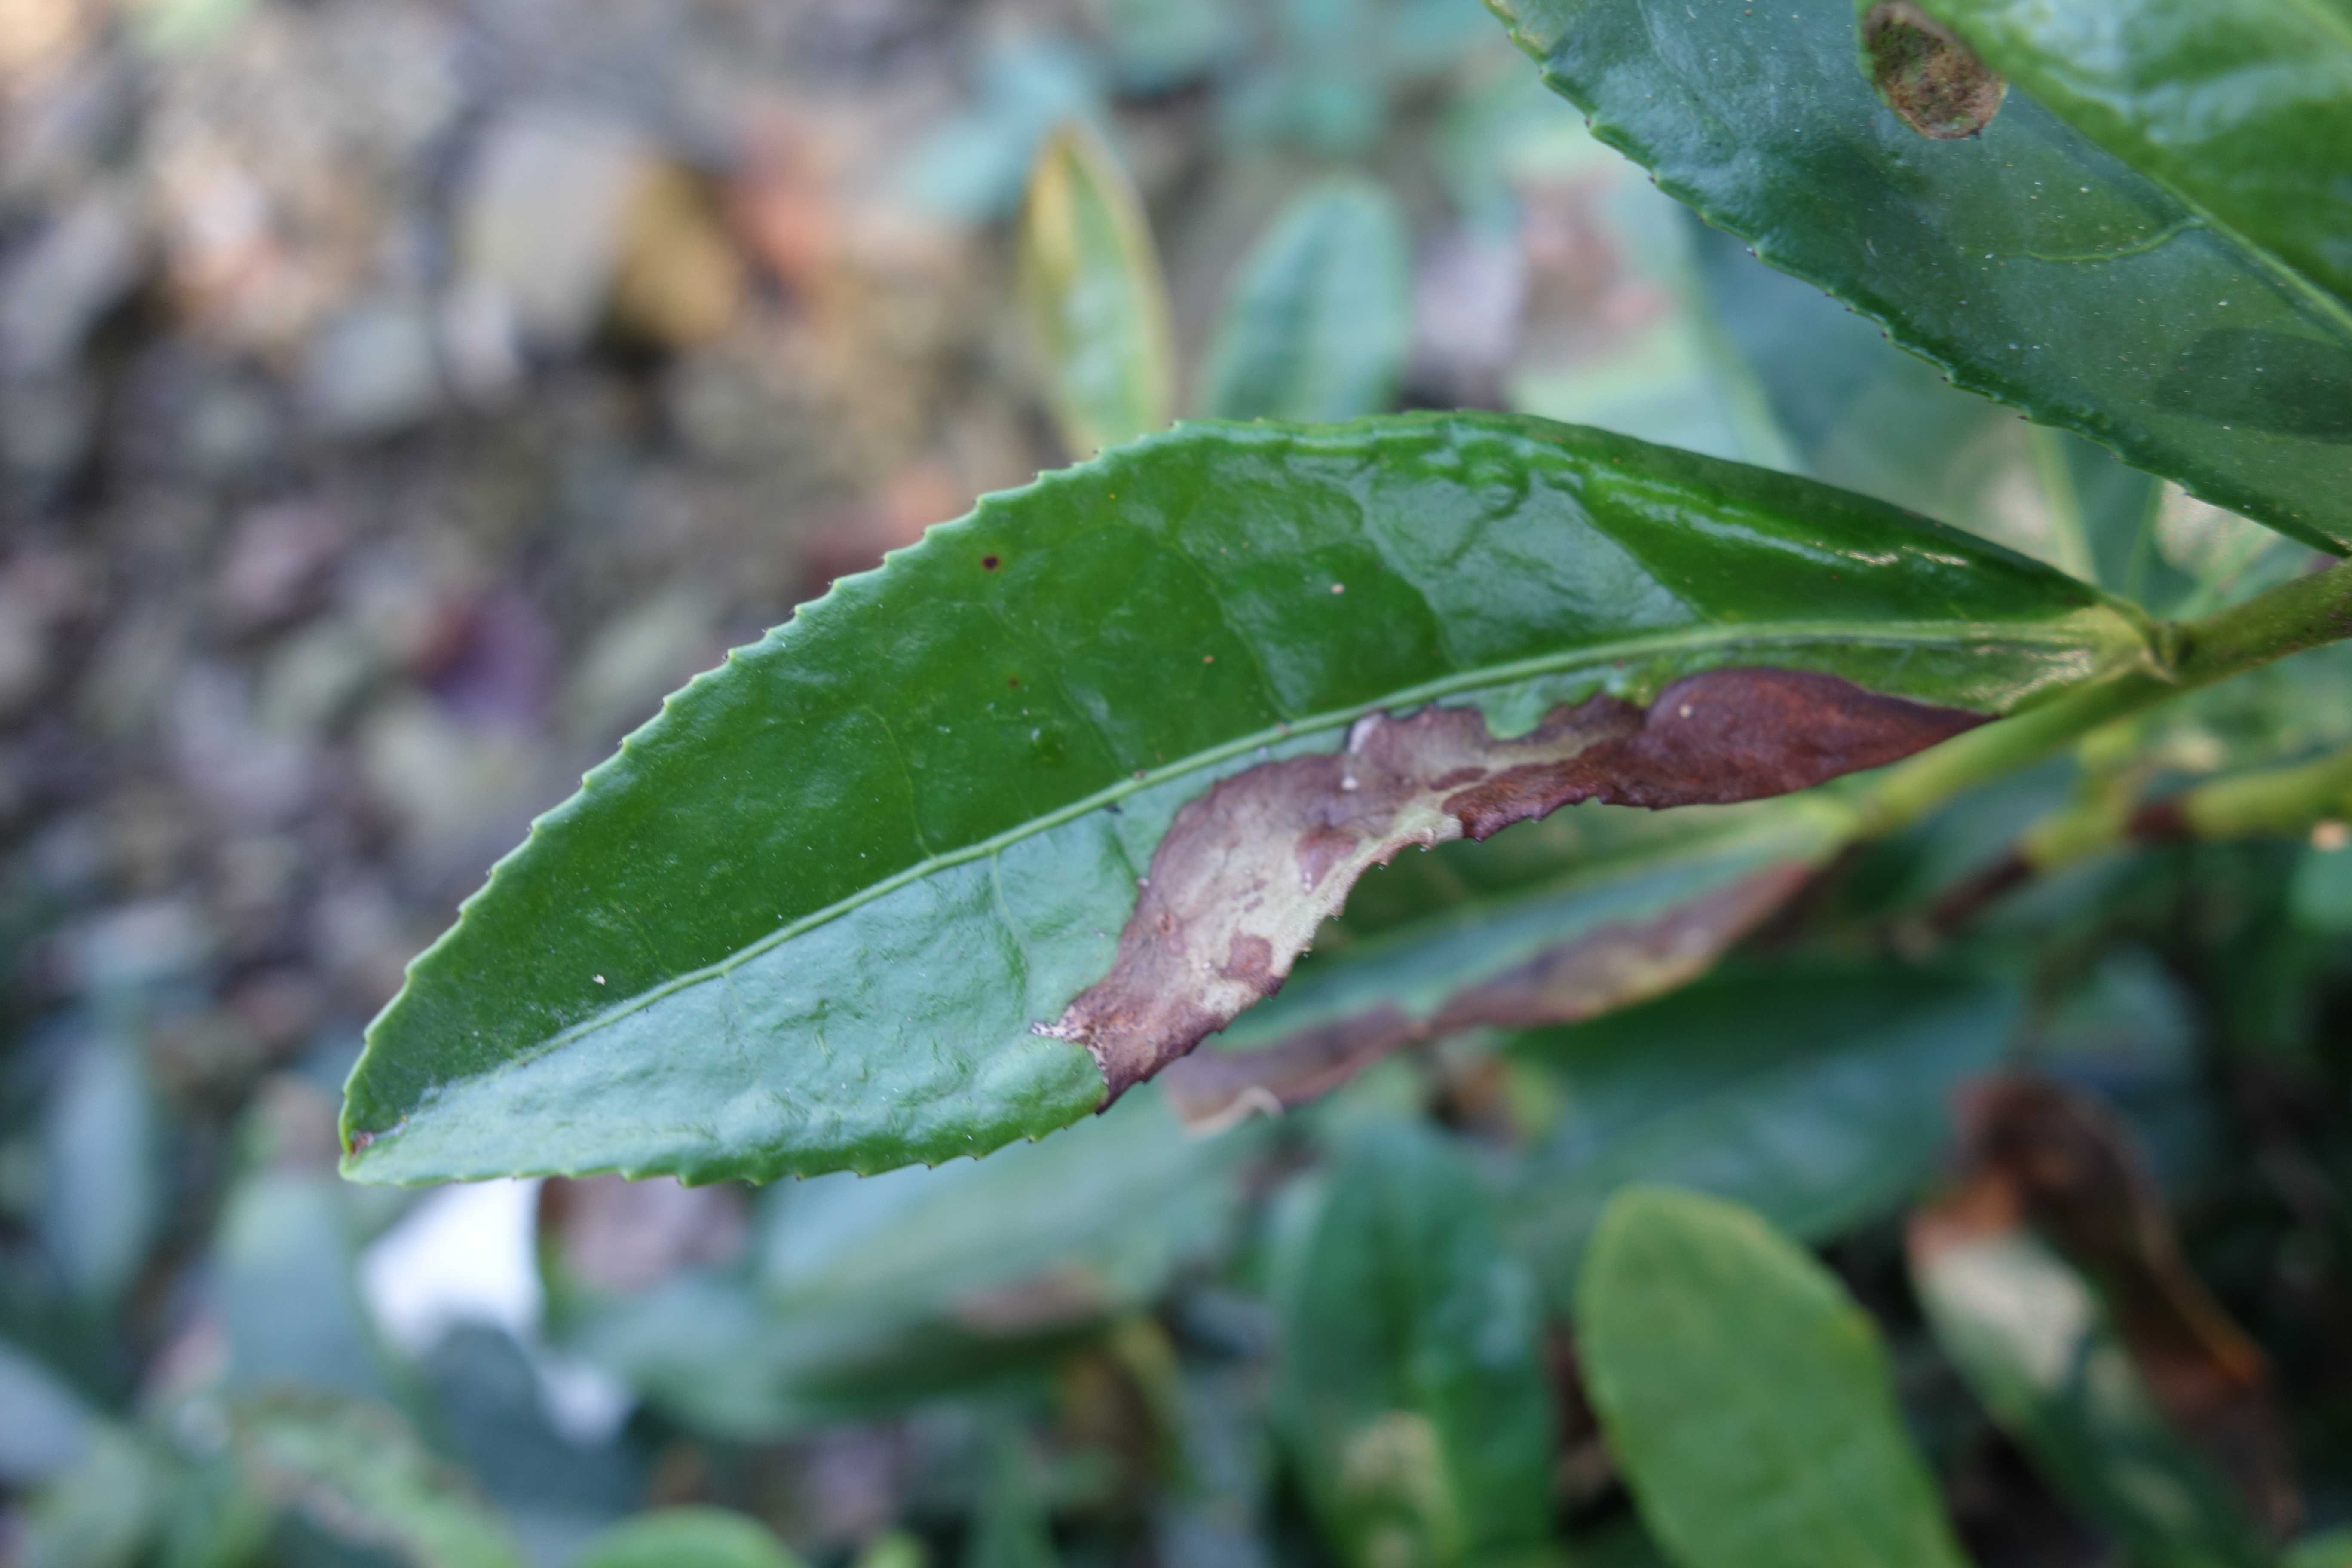tanju_high: (338, 404, 2159, 1213), (1494, 5, 2352, 558)
